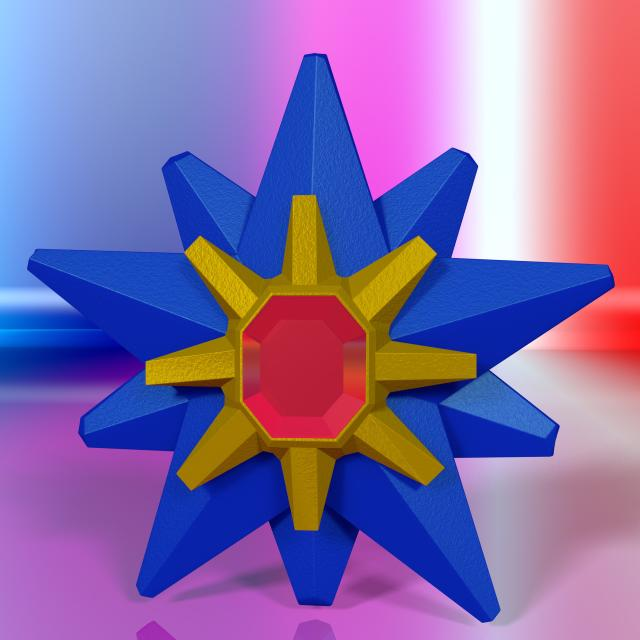Starmie: (127, 147, 498, 606)
